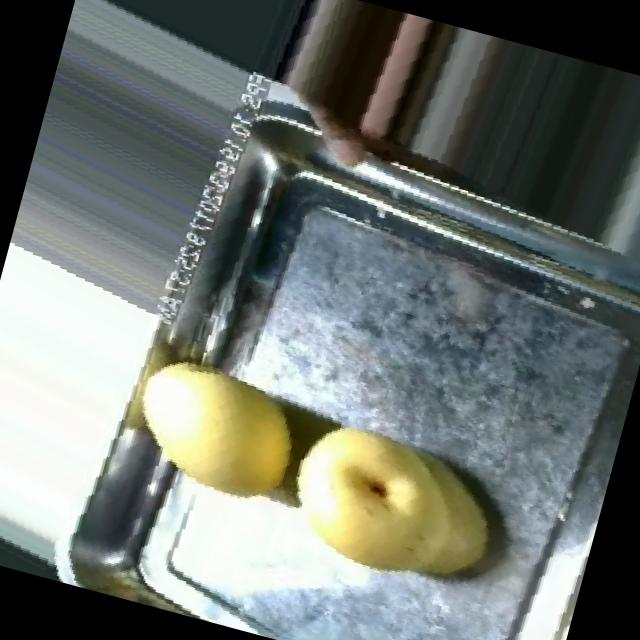Fruit: (257, 392, 528, 622), (104, 326, 328, 532)
